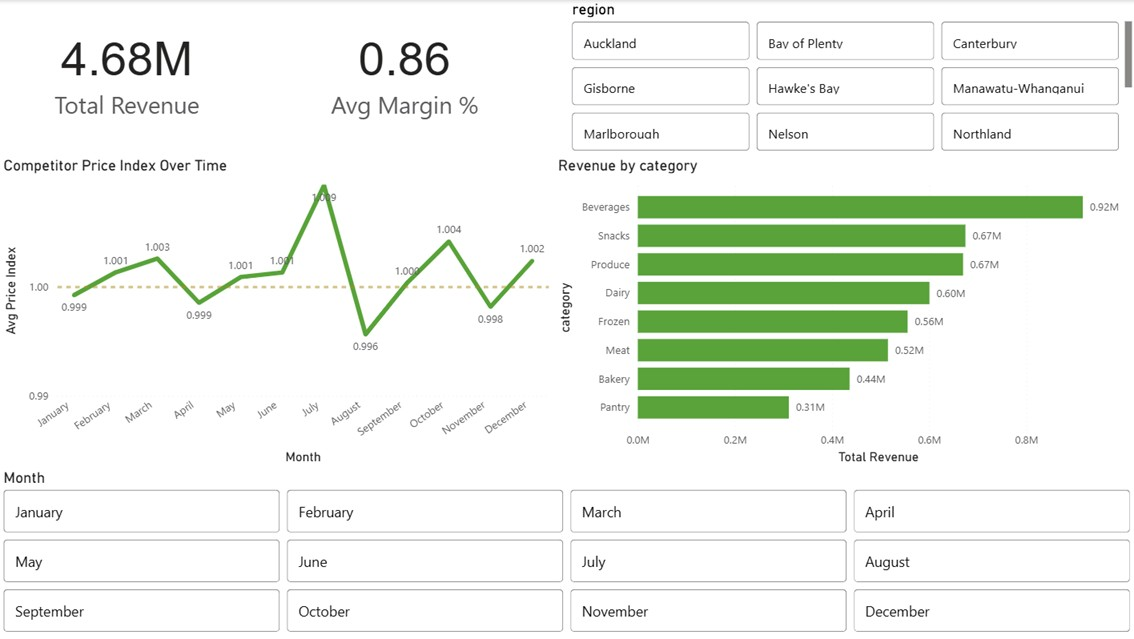

The dashboard page shown, as its layout file describes it:
{"tool":"powerbi","page":{"name":"Pricing Dashboard","canvas":[1280,720],"ordinal":0},"visuals":[{"type":"card","fields":{"Values":["fact_sales3.Total Revenue"]},"box":[0,0,288,160],"z":0},{"type":"card","fields":{"Values":["fact_sales3.Avg Margin %"]},"box":[288,0,336,160],"z":1000},{"type":"clusteredBarChart","title":"Revenue by category","fields":{"Category":["dim_products.category"],"Y":["fact_sales3.Total Revenue"]},"box":[624,176,656,352],"z":3000},{"type":"lineChart","title":"Competitor Price Index Over Time","fields":{"Y":["fact_competitors2.Avg Price Index"],"Category":["dim_date.Month"]},"box":[0,176,624,352],"z":4000},{"type":"advancedSlicerVisual","fields":{"Values":["dim_date.Month"]},"box":[0,528,1280,192],"z":5000},{"type":"advancedSlicerVisual","fields":{"Values":["dim_regions4.region"]},"box":[640.2,0,640.2,175.8],"z":6000}]}

Visuals, with their boxes in screenshot pixels (x1, y1, x2, y2), scaled from the page's 1280x720 canvas onto the 1134x639 screenshot:
card - fact_sales3.Total Revenue: (0,0,255,142)
card - fact_sales3.Avg Margin %: (255,0,553,142)
"Revenue by category" clusteredBarChart: (553,156,1133,469)
"Competitor Price Index Over Time" lineChart: (0,156,553,469)
advancedSlicerVisual - dim_date.Month: (0,469,1133,638)
advancedSlicerVisual - dim_regions4.region: (567,0,1133,156)
